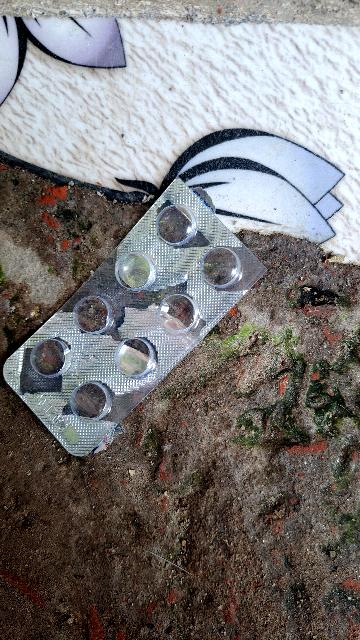medicine: (0, 173, 276, 464)
